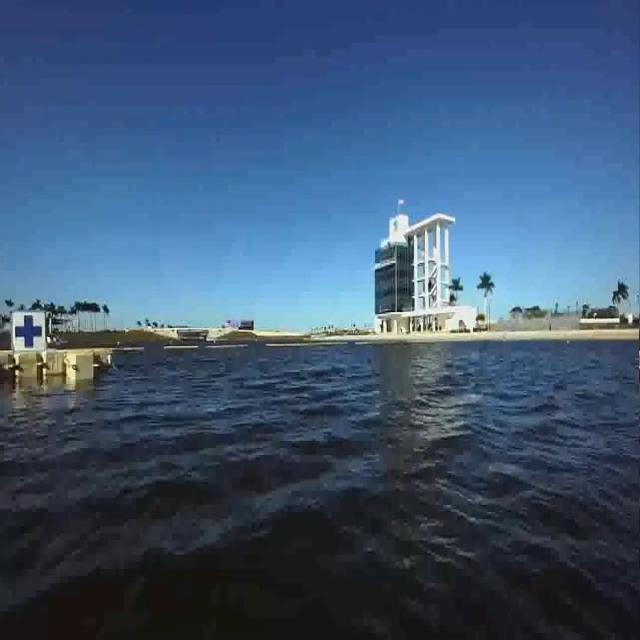blue-cross: (12, 311, 44, 356)
